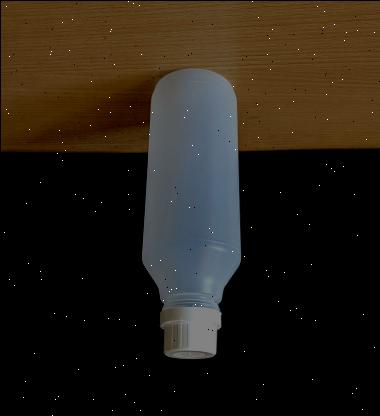Plastic Bottle: (140, 68, 242, 360)
